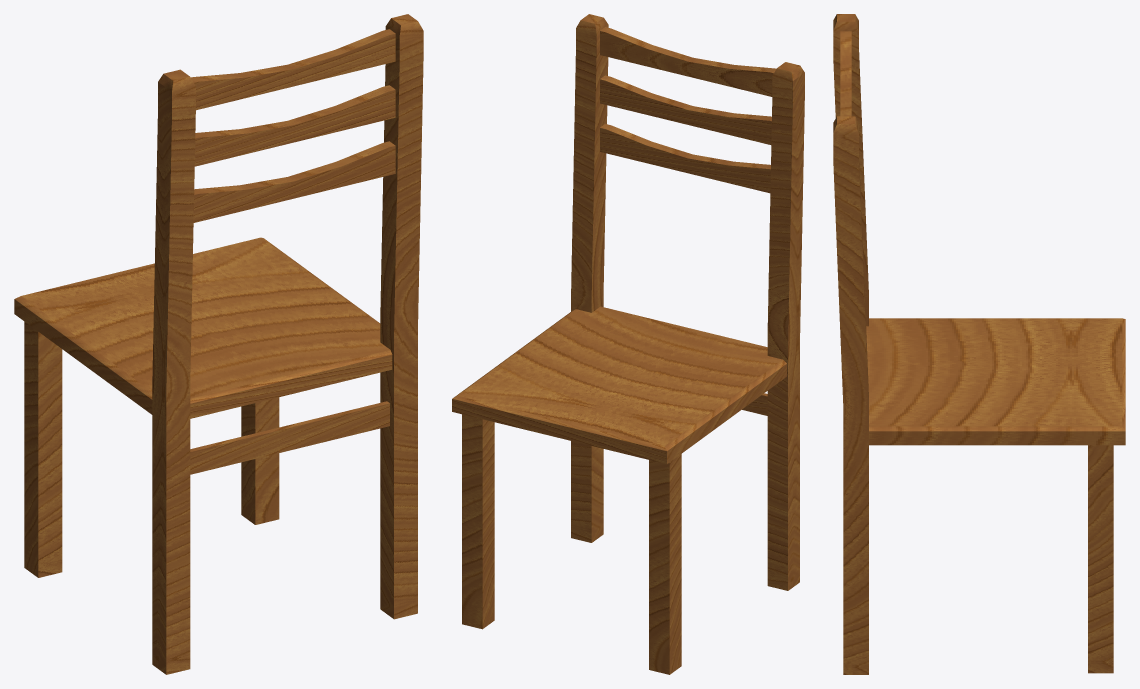
The model's file is testchaise.glb.
The picture shows the model from 3 angles, left to right: view 1: azimuth 30°, elevation 25°; view 2: azimuth 150°, elevation 25°; view 3: azimuth 270°, elevation 25°; orthographic projection. The views are drawn at different scales.
Visible parts, largest first — view 1: Chaise v 1; view 2: Chaise v 1; view 3: Chaise v 1.
Boxes of the visible parts, left/top/right/bottom form: Chaise v 1: left=14, top=14, right=423, bottom=674; Chaise v 1: left=452, top=14, right=804, bottom=674; Chaise v 1: left=833, top=14, right=1125, bottom=674.
Bounding box in the file's own units: 3.75 × 8.51 × 4.1.
Materials: 1 (1 with a texture image).
